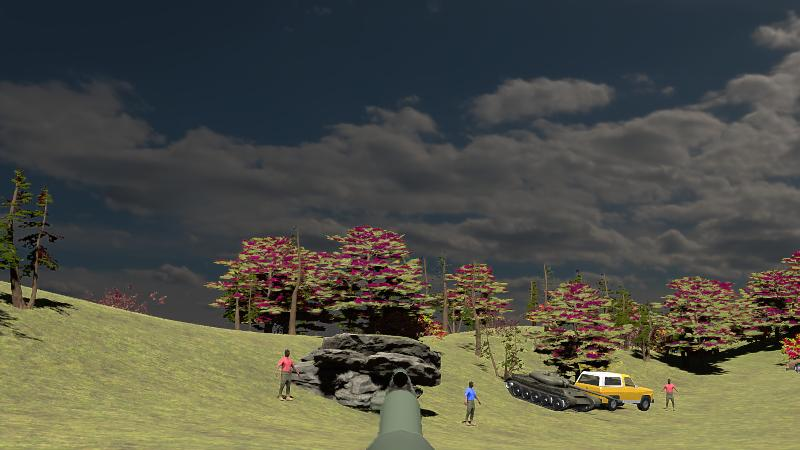Human: (275, 349, 298, 402), (464, 381, 480, 427), (662, 378, 679, 413)
Tank: (504, 369, 609, 413)
car: (573, 371, 654, 412), (786, 348, 800, 374)
